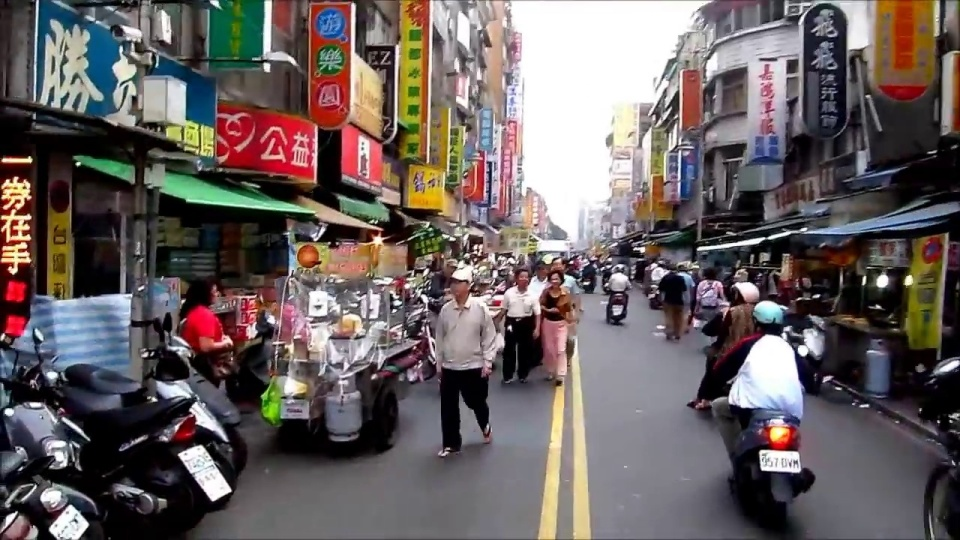person_head: (181, 276, 225, 310), (753, 298, 785, 334), (447, 267, 475, 302), (730, 282, 761, 306), (542, 270, 567, 294), (510, 266, 534, 290), (548, 255, 565, 273), (701, 267, 717, 280), (675, 263, 690, 276), (612, 263, 628, 275), (666, 265, 679, 275)
person_vbox: (708, 300, 808, 460), (432, 270, 504, 465), (495, 266, 543, 387), (174, 274, 233, 363), (534, 270, 577, 388), (702, 281, 763, 346), (693, 261, 726, 341), (659, 264, 687, 342), (603, 260, 633, 326), (543, 255, 577, 311), (670, 264, 696, 334)
